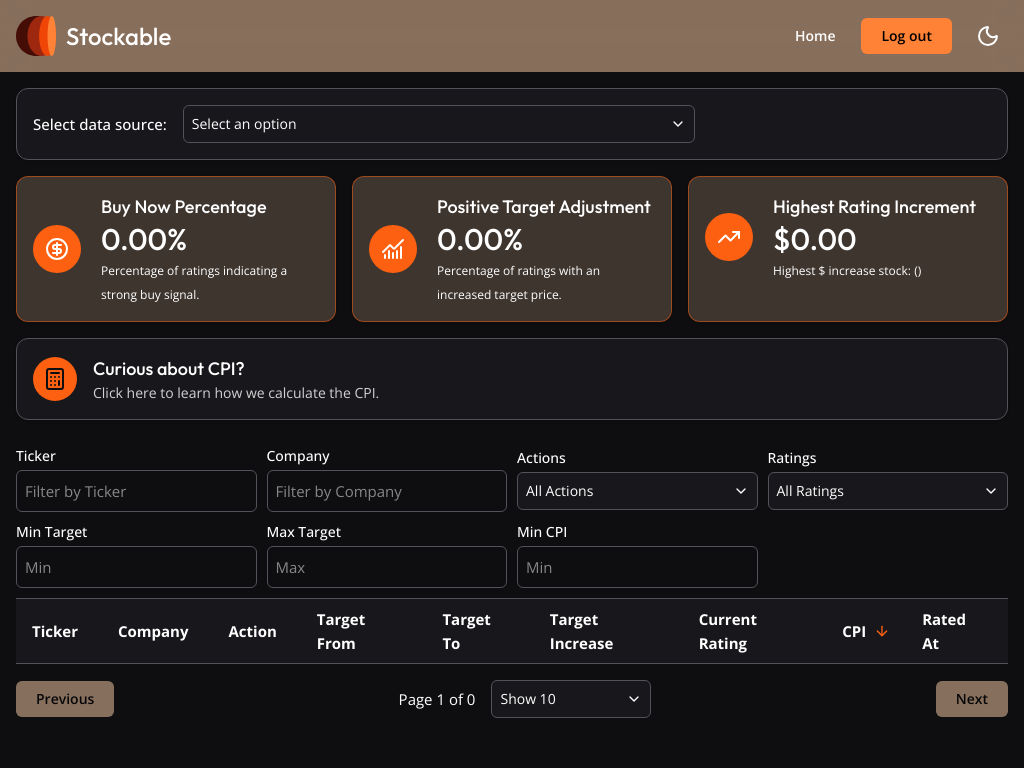
it: HomePage.vue › opens the calculation modal when calculations card is clicked
Click the element that starts with "Curious about CPI?": (512, 379) [16,338,1008,420]
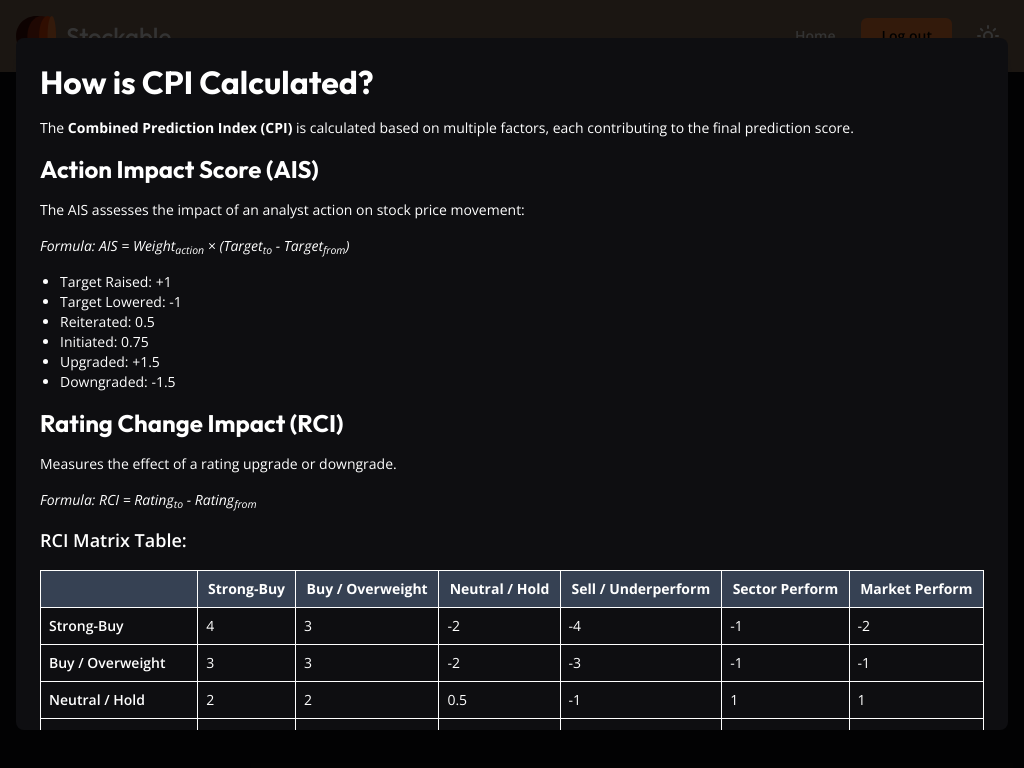
expect the element that starts with "How is CPI Calculated?" is shown: met
